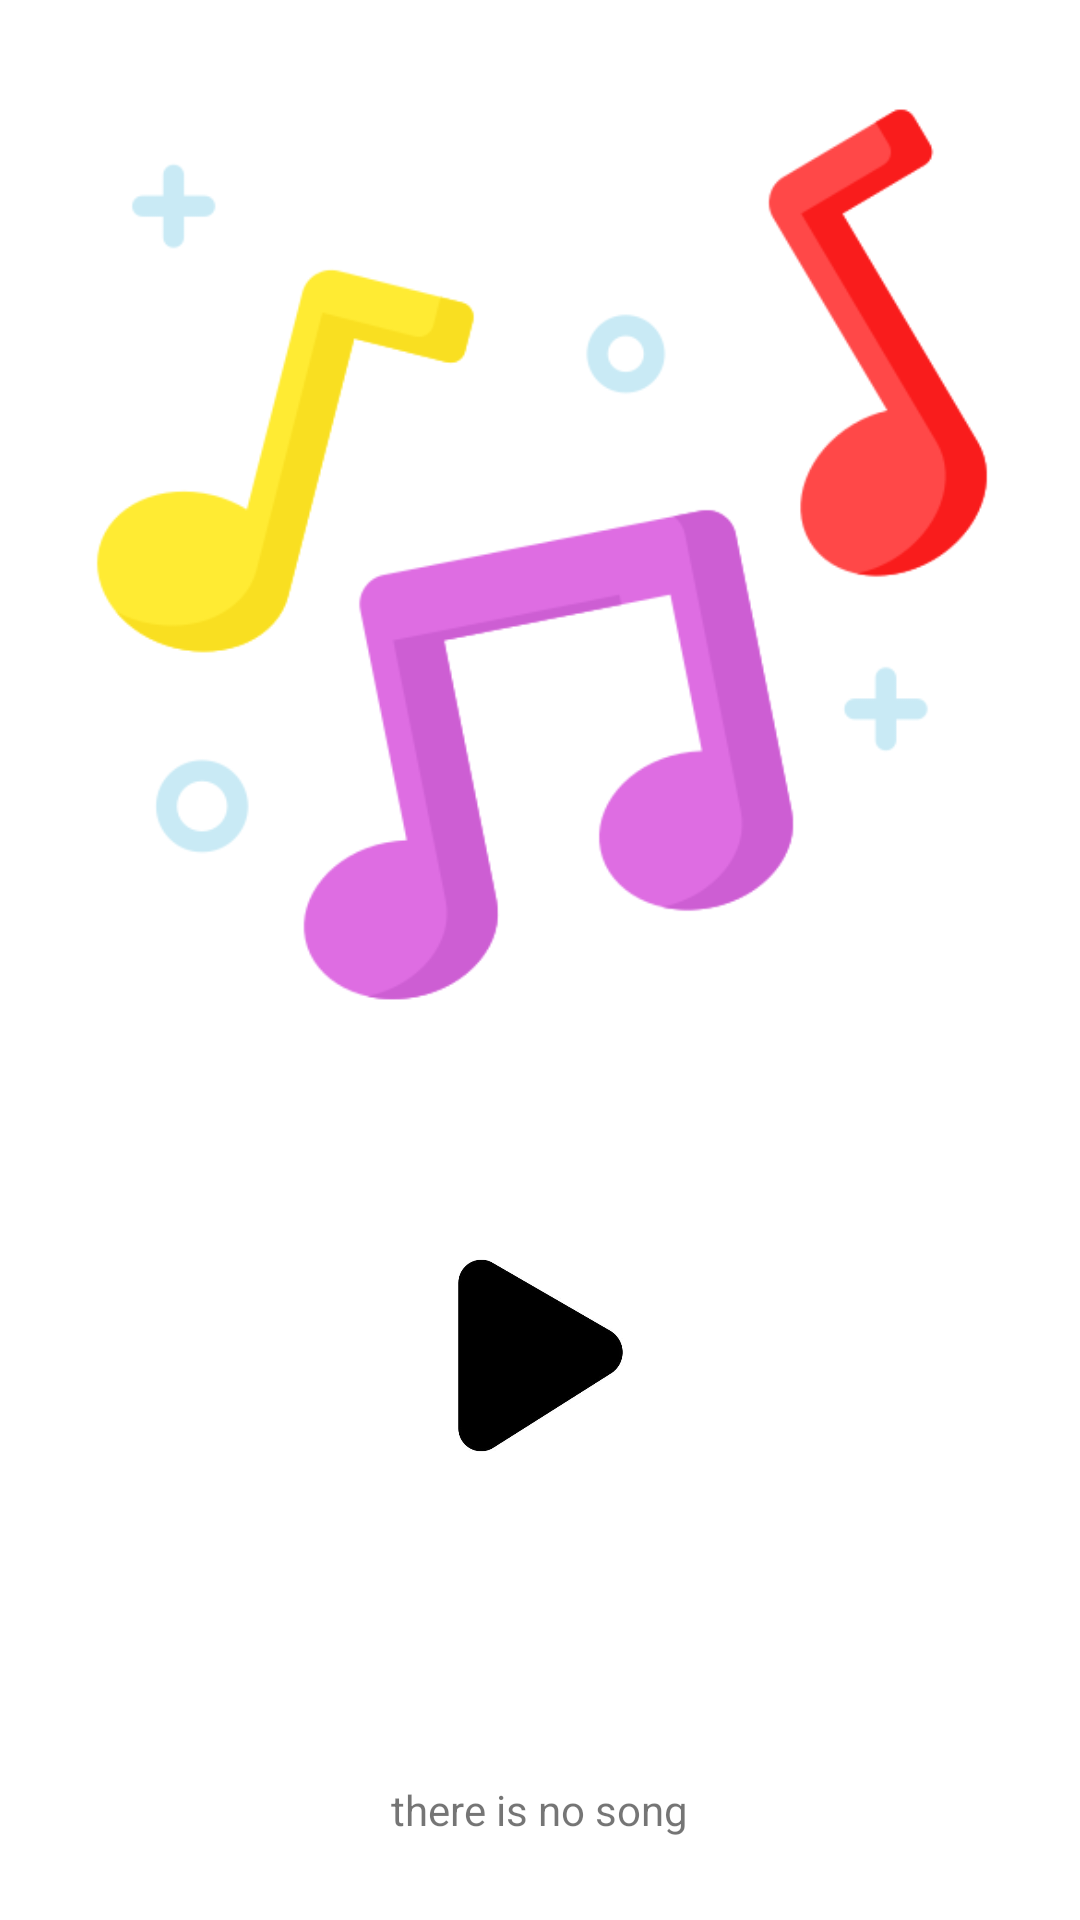

Screen size 1080x1920. Icon name, then its box in pixels as (x1, y1, x2, y2):
play: (458, 1260, 623, 1451)
